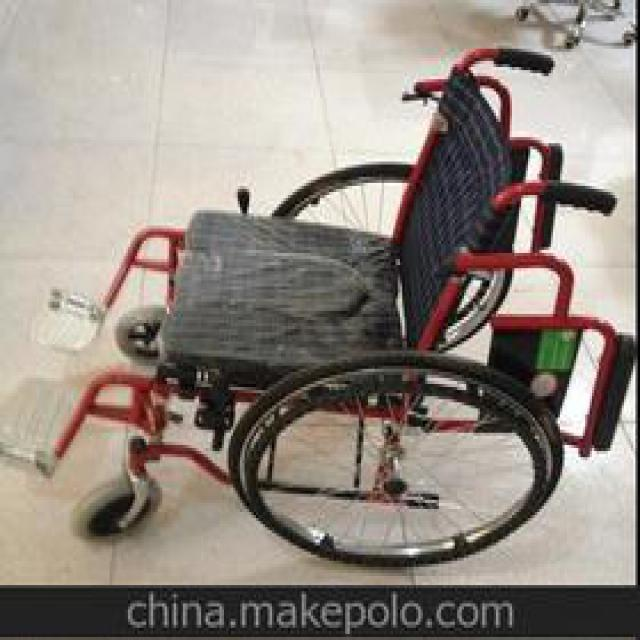wheelchair: (0, 36, 604, 580)
